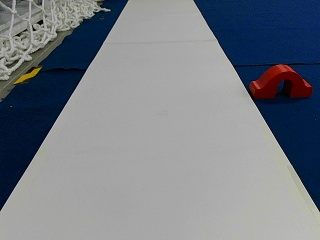bridge: (251, 65, 311, 96)
